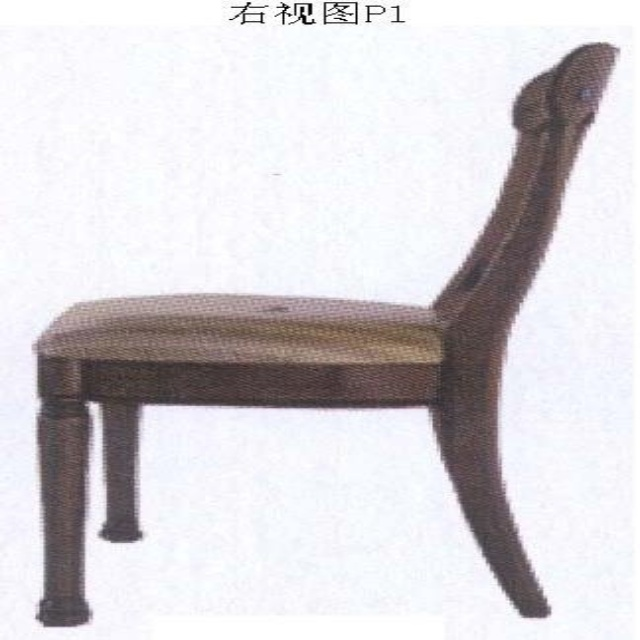obstacle: (36, 43, 614, 626)
